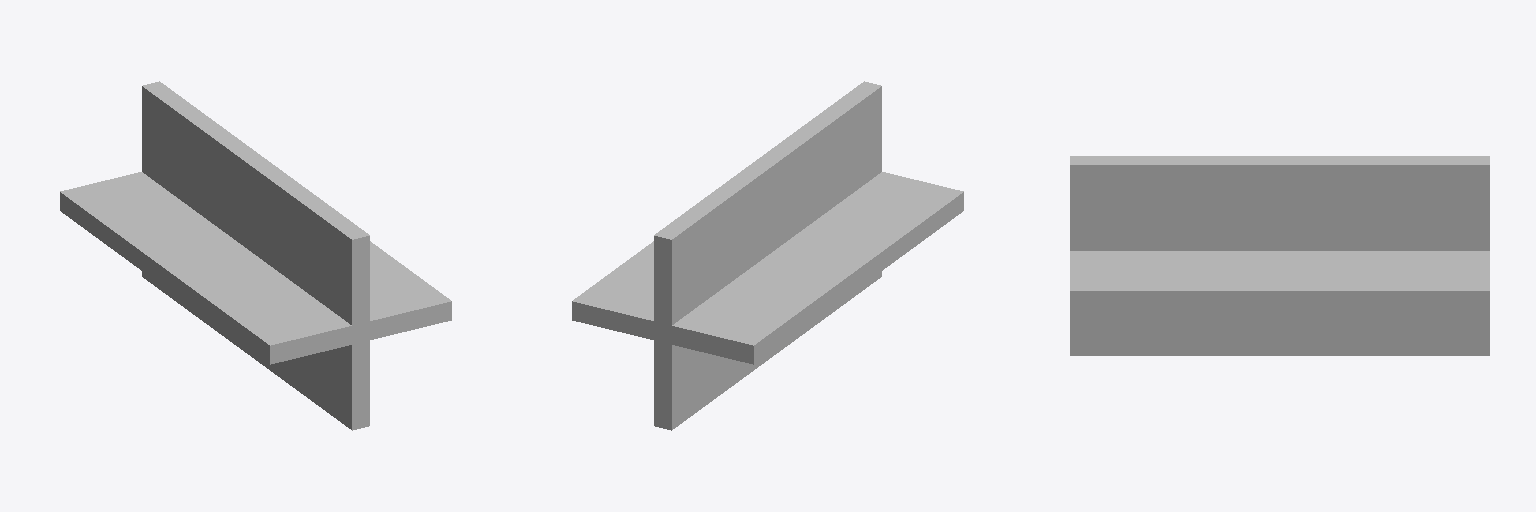
File: plus-object.obj
The picture shows the model from 3 angles: view 1: azimuth 30°, elevation 25°; view 2: azimuth 150°, elevation 25°; view 3: azimuth 270°, elevation 25°; orthographic projection.
Parts seen in each view (by area): view 1: Cube.001; view 2: Cube.001; view 3: Cube.001.
Boxes of the visible parts, <box> form: Cube.001: <box>60,81,451,430</box>; Cube.001: <box>572,81,963,430</box>; Cube.001: <box>1070,156,1489,355</box>.
Bounding box in the file's own units: 1 × 1 × 2.